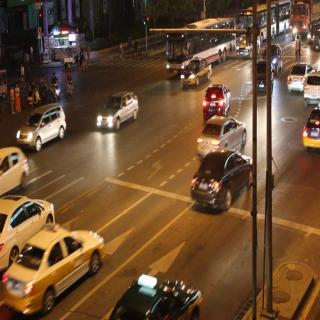BigCar: (162, 16, 236, 66)
Car: (6, 226, 108, 306), (113, 272, 207, 320), (192, 148, 262, 212), (1, 194, 57, 269), (17, 104, 71, 150), (198, 114, 246, 153), (96, 88, 138, 131), (202, 85, 232, 115), (287, 56, 311, 93), (303, 100, 320, 151), (182, 59, 216, 84), (255, 58, 273, 93), (264, 38, 282, 72), (237, 33, 259, 58)
